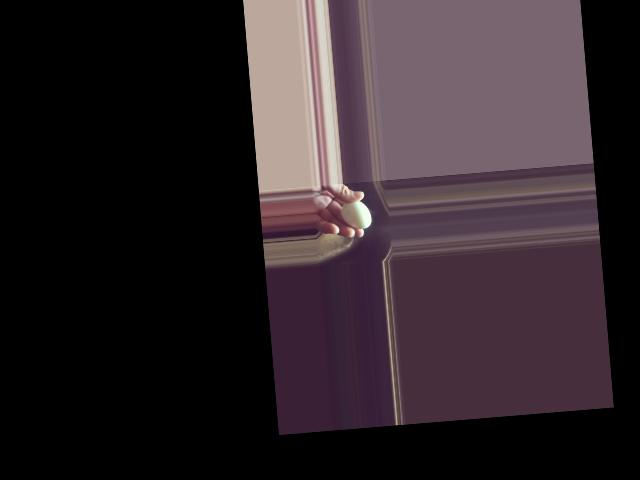egg: (340, 199, 372, 230)
